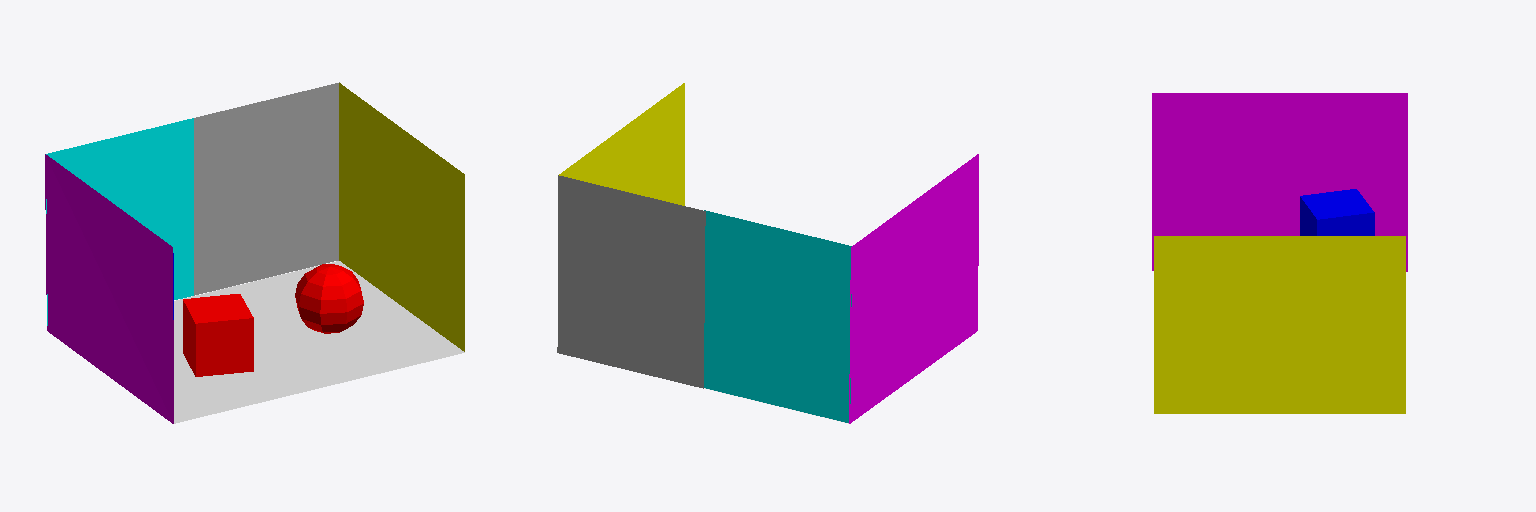
3 renders of one model, left to right at view 1: azimuth 30°, elevation 25°; view 2: azimuth 150°, elevation 25°; view 3: azimuth 270°, elevation 25°, orthographic.
Visible parts, largest first — view 1: MirrorWall_back_wall, left_wall, right_wall, floor, back_wall_back_wall.001, short_box, sphere_spheres; view 2: MirrorWall_back_wall, back_wall_back_wall.001, left_wall, right_wall; view 3: right_wall, left_wall, tall_box.
Part boxes in pixels (left/top/right/bottom): MirrorWall_back_wall: left=194, top=82, right=339, bottom=295; left_wall: left=45, top=154, right=173, bottom=423; right_wall: left=339, top=83, right=464, bottom=351; floor: left=174, top=261, right=464, bottom=423; back_wall_back_wall.001: left=46, top=118, right=193, bottom=325; short_box: left=183, top=294, right=253, bottom=376; sphere_spheres: left=295, top=264, right=363, bottom=333; MirrorWall_back_wall: left=557, top=175, right=705, bottom=388; back_wall_back_wall.001: left=704, top=210, right=851, bottom=422; left_wall: left=849, top=154, right=978, bottom=423; right_wall: left=559, top=83, right=684, bottom=205; right_wall: left=1154, top=236, right=1405, bottom=413; left_wall: left=1152, top=93, right=1407, bottom=271; tall_box: left=1300, top=189, right=1374, bottom=235.
Bounding box in the file's own units: 9.49 × 5.66 × 7.17.